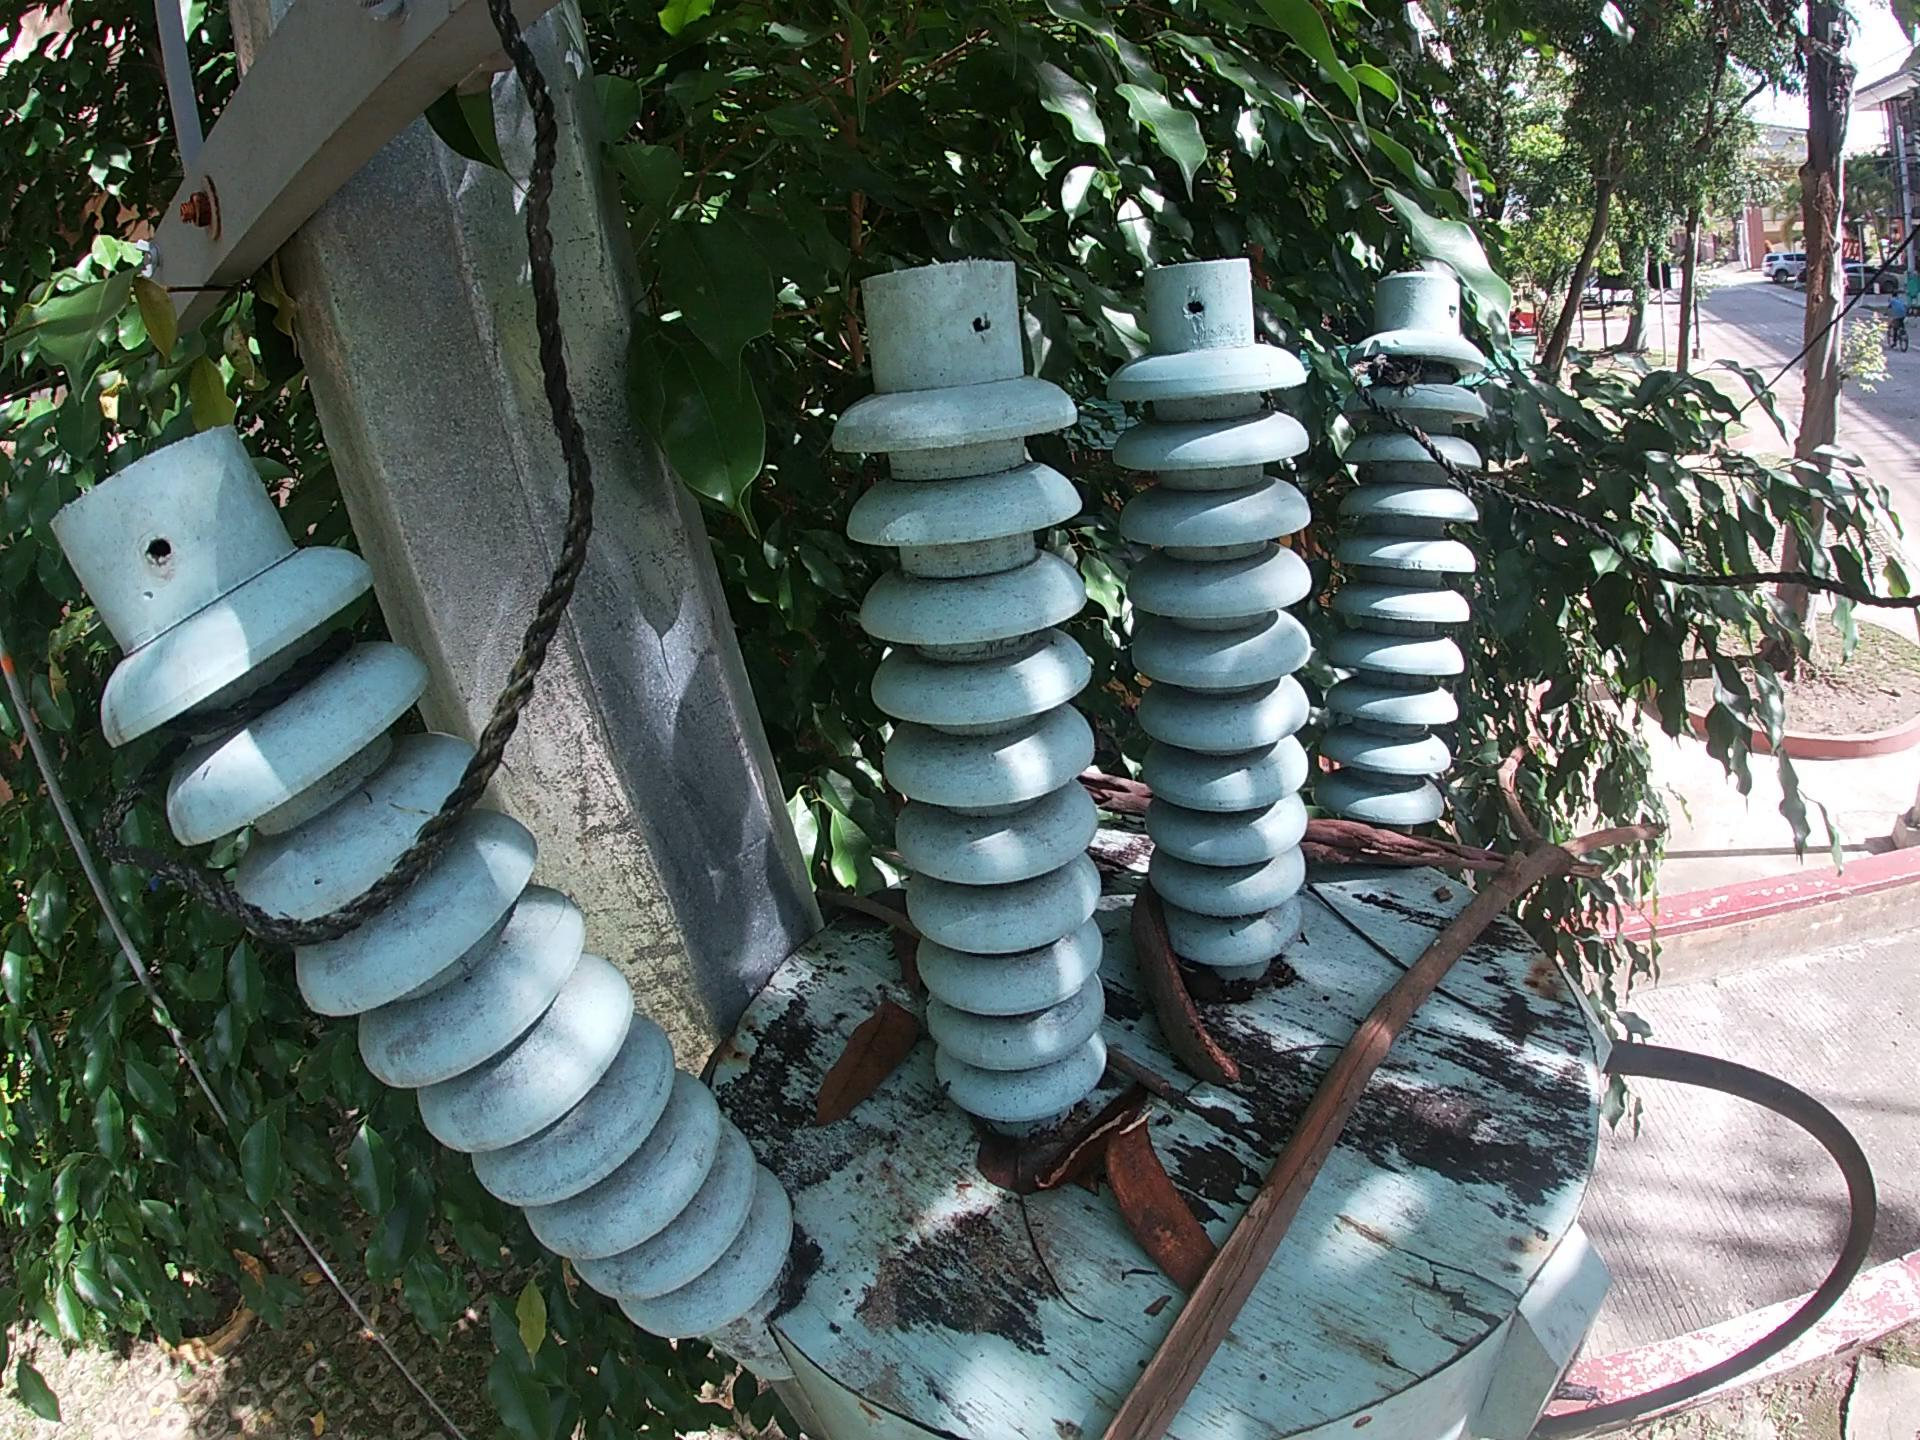leaf: (810, 982, 927, 1113), (962, 1130, 1055, 1206), (847, 886, 906, 923), (892, 932, 925, 989)
mahogany fruit: (1138, 885, 1247, 1106), (1110, 1116, 1196, 1287)
tree branch: (1285, 696, 1896, 1407), (1312, 871, 1541, 1041), (1302, 811, 1503, 879), (1008, 1195, 1105, 1330), (1020, 1106, 1116, 1199), (807, 879, 930, 930), (1084, 771, 1166, 818), (1104, 1057, 1181, 1106)
